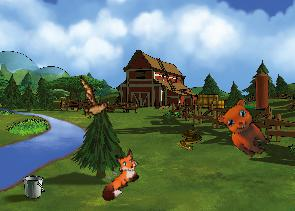bear: (211, 94, 281, 162)
eagle: (64, 75, 122, 128)
fox: (87, 145, 149, 204)
